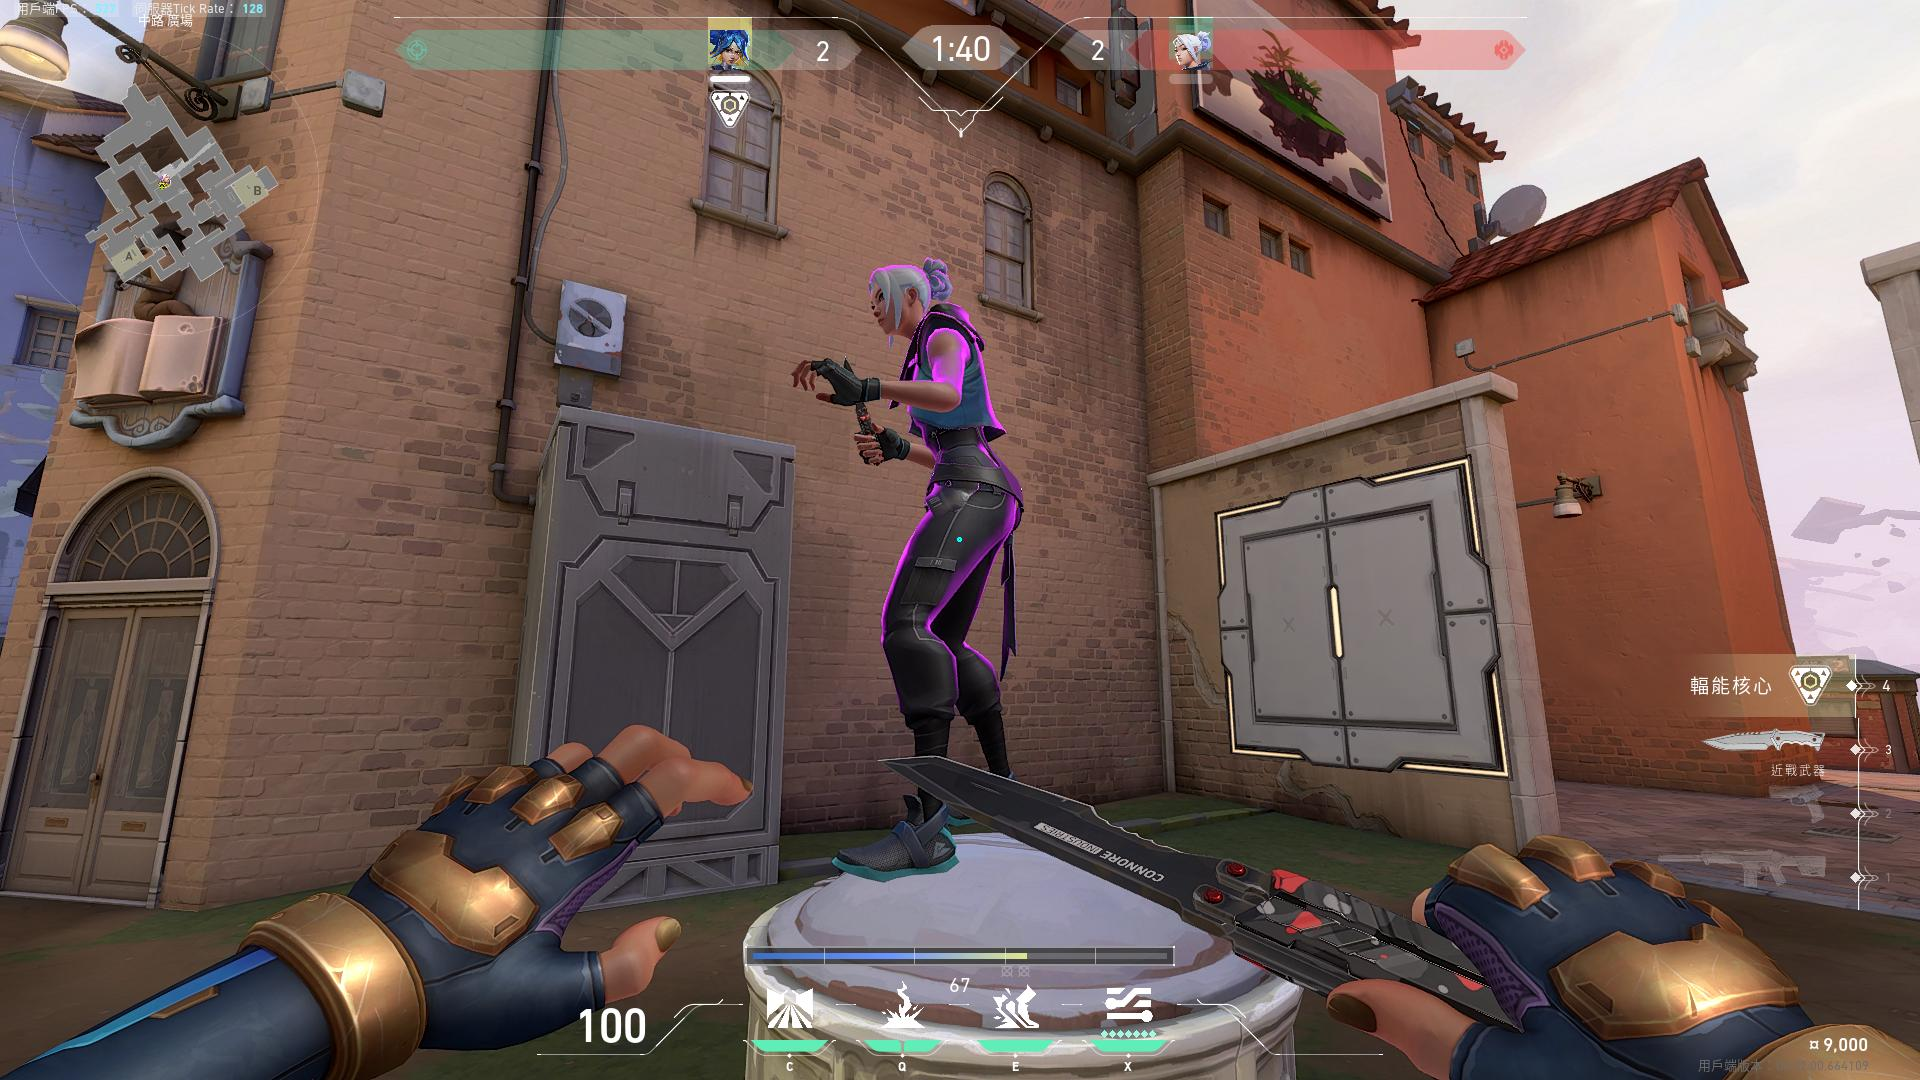enemyBody: (920, 334, 982, 451)
enemyHead: (884, 274, 928, 320)
